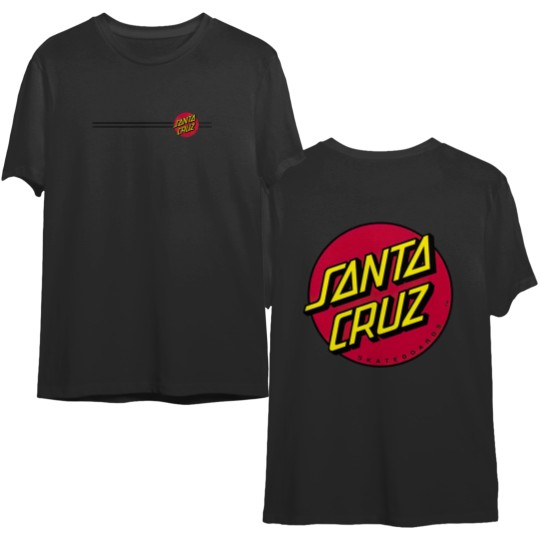design: (302, 218, 455, 369), (91, 108, 214, 140)
